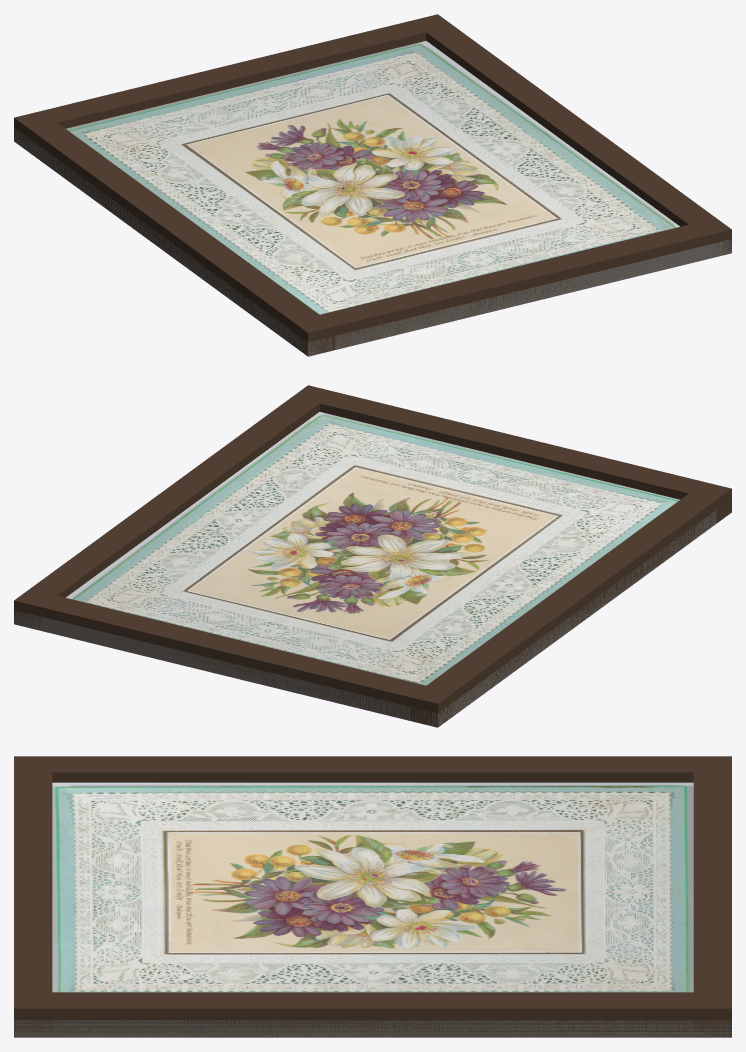
Rendered from framed_artwork.glb.
The picture shows the model from 3 angles, top to bottom: view 1: azimuth 30°, elevation 25°; view 2: azimuth 150°, elevation 25°; view 3: azimuth 270°, elevation 25°; orthographic projection. The views are drawn at different scales.
Parts seen in each view (by area): view 1: Artwork_Image_Front, Frame_Left, Frame_Bottom, Back_Board, Frame_Right, Frame_Top; view 2: Artwork_Image_Front, Frame_Left, Frame_Top, Frame_Right, Back_Board, Frame_Bottom; view 3: Artwork_Image_Front, Frame_Right, Frame_Left, Back_Board, Frame_Bottom, Frame_Top.
Part boxes in pixels (x1=…): Artwork_Image_Front: x1=66, y1=41, x2=679, y2=314; Frame_Left: x1=14, y1=111, x2=335, y2=356; Frame_Bottom: x1=292, y1=218, x2=731, y2=356; Back_Board: x1=14, y1=127, x2=731, y2=356; Frame_Right: x1=411, y1=14, x2=731, y2=254; Frame_Top: x1=14, y1=15, x2=447, y2=150; Artwork_Image_Front: x1=66, y1=412, x2=679, y2=685; Frame_Left: x1=410, y1=484, x2=730, y2=727; Frame_Top: x1=19, y1=589, x2=453, y2=726; Frame_Right: x1=14, y1=385, x2=334, y2=629; Back_Board: x1=14, y1=505, x2=731, y2=727; Frame_Bottom: x1=293, y1=385, x2=731, y2=523; Artwork_Image_Front: x1=52, y1=782, x2=693, y2=992; Frame_Right: x1=14, y1=992, x2=731, y2=1037; Frame_Left: x1=14, y1=756, x2=731, y2=782; Back_Board: x1=14, y1=1020, x2=731, y2=1037; Frame_Bottom: x1=14, y1=756, x2=52, y2=1037; Frame_Top: x1=693, y1=756, x2=731, y2=1037.
Bounding box in the file's own units: 1.86 × 0.1 × 2.24.
3 materials, 1 textured.
